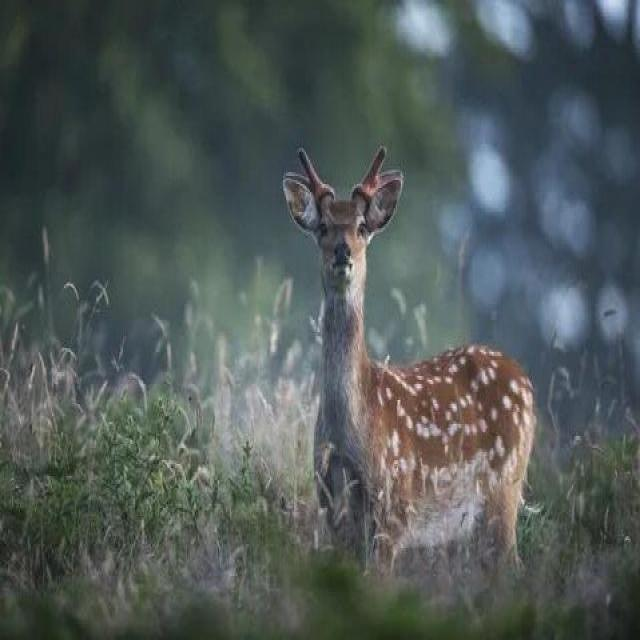deer: (258, 101, 559, 619)
